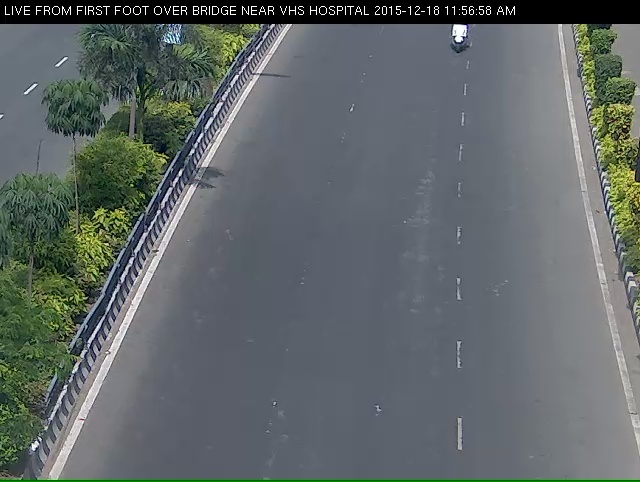Person: (442, 23, 474, 66)
